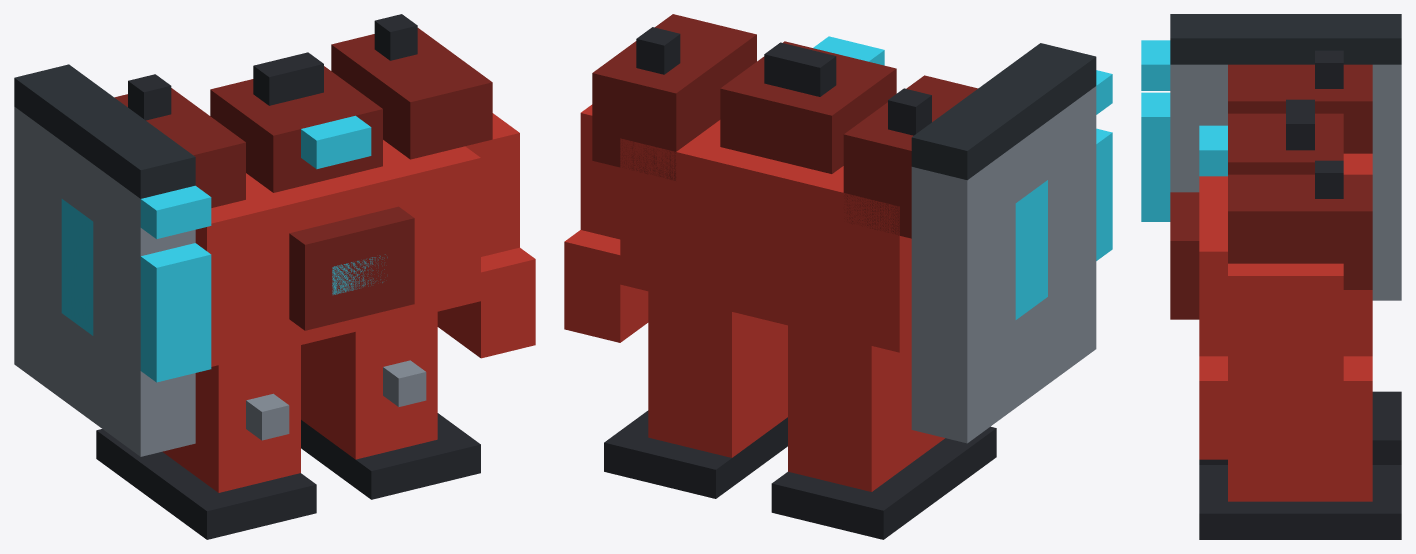
File: mech_shielder.glb
3 views of the same model, side by side, from view 1: azimuth 30°, elevation 25°; view 2: azimuth 150°, elevation 25°; view 3: azimuth 270°, elevation 25° (orthographic). The views are drawn at different scales.
Visible parts, largest first — view 1: Shield mesh, Torso mesh, Feet mesh, Leg R mesh, Pauldron R mesh, Chest mesh, Leg L mesh, Emblem mesh, Head mesh, Fist R mesh, Pauldron L mesh, Arm R mesh (+5 smaller); view 2: Shield mesh, Torso mesh, Leg R mesh, Feet mesh, Leg L mesh, Pauldron R mesh, Head mesh, Pauldron L mesh, Fist R mesh, Arm R mesh, Spike mesh, Crest mesh (+2 smaller); view 3: Shield mesh, Arm R mesh, Fist R mesh, Pauldron R mesh, Feet mesh, Torso mesh, Pauldron L mesh, Leg R mesh, Head mesh, Emblem mesh, Chest mesh, Spike mesh (+2 smaller).
Part boxes in pixels (left/top/right/bottom): Shield mesh: left=14, top=64, right=195, bottom=456; Torso mesh: left=195, top=140, right=480, bottom=366; Feet mesh: left=96, top=413, right=480, bottom=539; Leg R mesh: left=301, top=312, right=437, bottom=459; Pauldron R mesh: left=331, top=28, right=492, bottom=159; Chest mesh: left=289, top=206, right=414, bottom=330; Leg L mesh: left=162, top=345, right=300, bottom=492; Emblem mesh: left=140, top=185, right=211, bottom=382; Head mesh: left=210, top=66, right=382, bottom=192; Fist R mesh: left=437, top=247, right=535, bottom=358; Pauldron L mesh: left=114, top=88, right=245, bottom=207; Arm R mesh: left=465, top=113, right=519, bottom=256; Shield mesh: left=911, top=43, right=1096, bottom=443; Torso mesh: left=620, top=120, right=911, bottom=352; Leg R mesh: left=648, top=291, right=787, bottom=457; Feet mesh: left=604, top=410, right=996, bottom=539; Leg L mesh: left=788, top=325, right=944, bottom=491; Pauldron R mesh: left=592, top=14, right=756, bottom=180; Head mesh: left=720, top=41, right=896, bottom=173; Pauldron L mesh: left=843, top=75, right=977, bottom=238; Fist R mesh: left=564, top=230, right=648, bottom=342; Arm R mesh: left=580, top=104, right=620, bottom=239; Spike mesh: left=636, top=27, right=931, bottom=135; Crest mesh: left=764, top=42, right=836, bottom=96; Shield mesh: left=1170, top=14, right=1401, bottom=300; Arm R mesh: left=1228, top=263, right=1343, bottom=406; Fist R mesh: left=1199, top=356, right=1372, bottom=459; Pauldron R mesh: left=1228, top=174, right=1372, bottom=289; Feet mesh: left=1199, top=391, right=1401, bottom=539; Torso mesh: left=1199, top=153, right=1372, bottom=356; Pauldron L mesh: left=1228, top=64, right=1372, bottom=153; Leg R mesh: left=1228, top=459, right=1372, bottom=501; Head mesh: left=1228, top=113, right=1343, bottom=174; Emblem mesh: left=1141, top=40, right=1170, bottom=221; Chest mesh: left=1170, top=192, right=1199, bottom=319; Spike mesh: left=1315, top=50, right=1343, bottom=198.
Bounding box in the file's own units: 15 × 14 × 9.
Materials: 1 (1 with a texture image).
